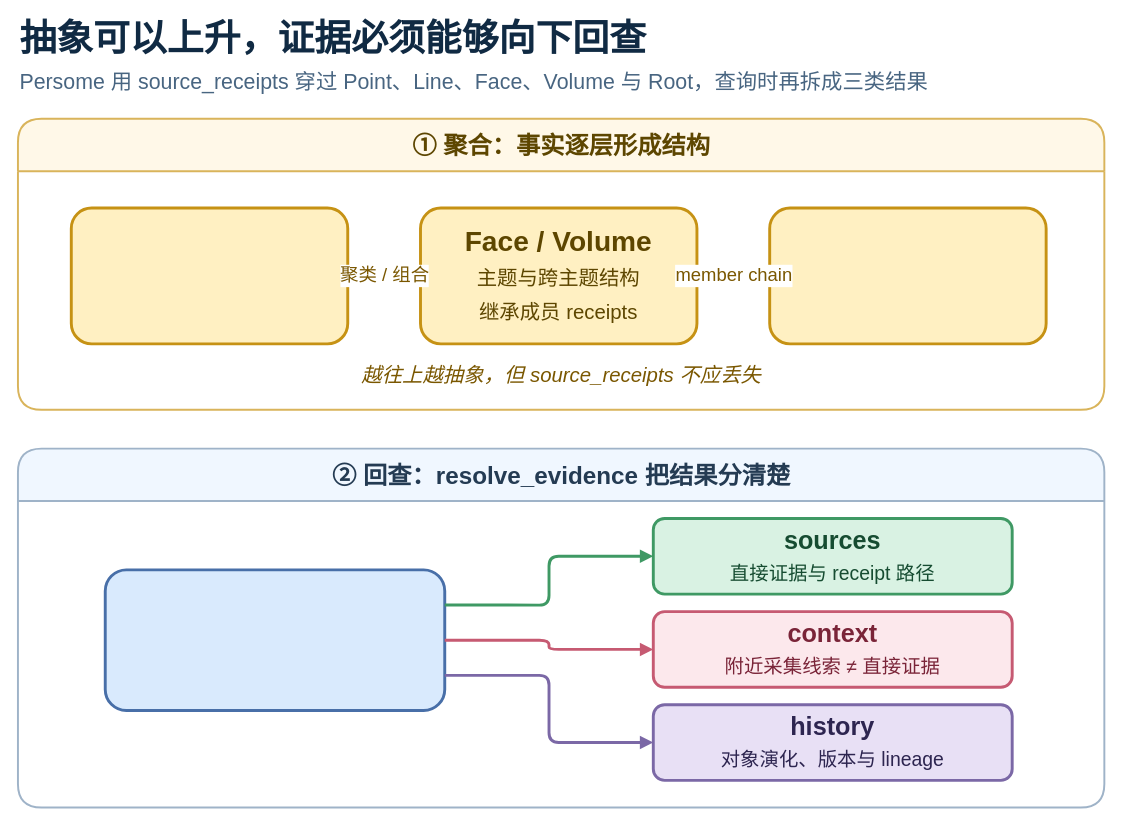
The diagram is 1121 pixels wide and 825 high, and some of its shapes have lost their labels. The centre of each missing label's shape, as x and y in pixels:
"Point / Line 事实、事件与关系 保存原始 receipt" belongs at point 209,275.
"resolve_evidence 输入 object_id 或 receipt 沿成员链与版本链解析" belongs at point 274,639.
"Root 全局叙事 最多一个 live Root 继续携带 receipts" belongs at point 907,275.
